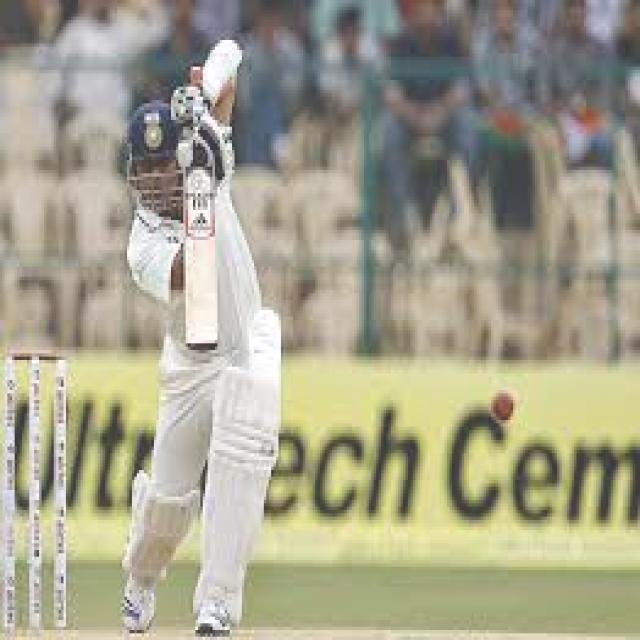bat: (179, 166, 224, 358)
toe: (185, 341, 222, 352)
